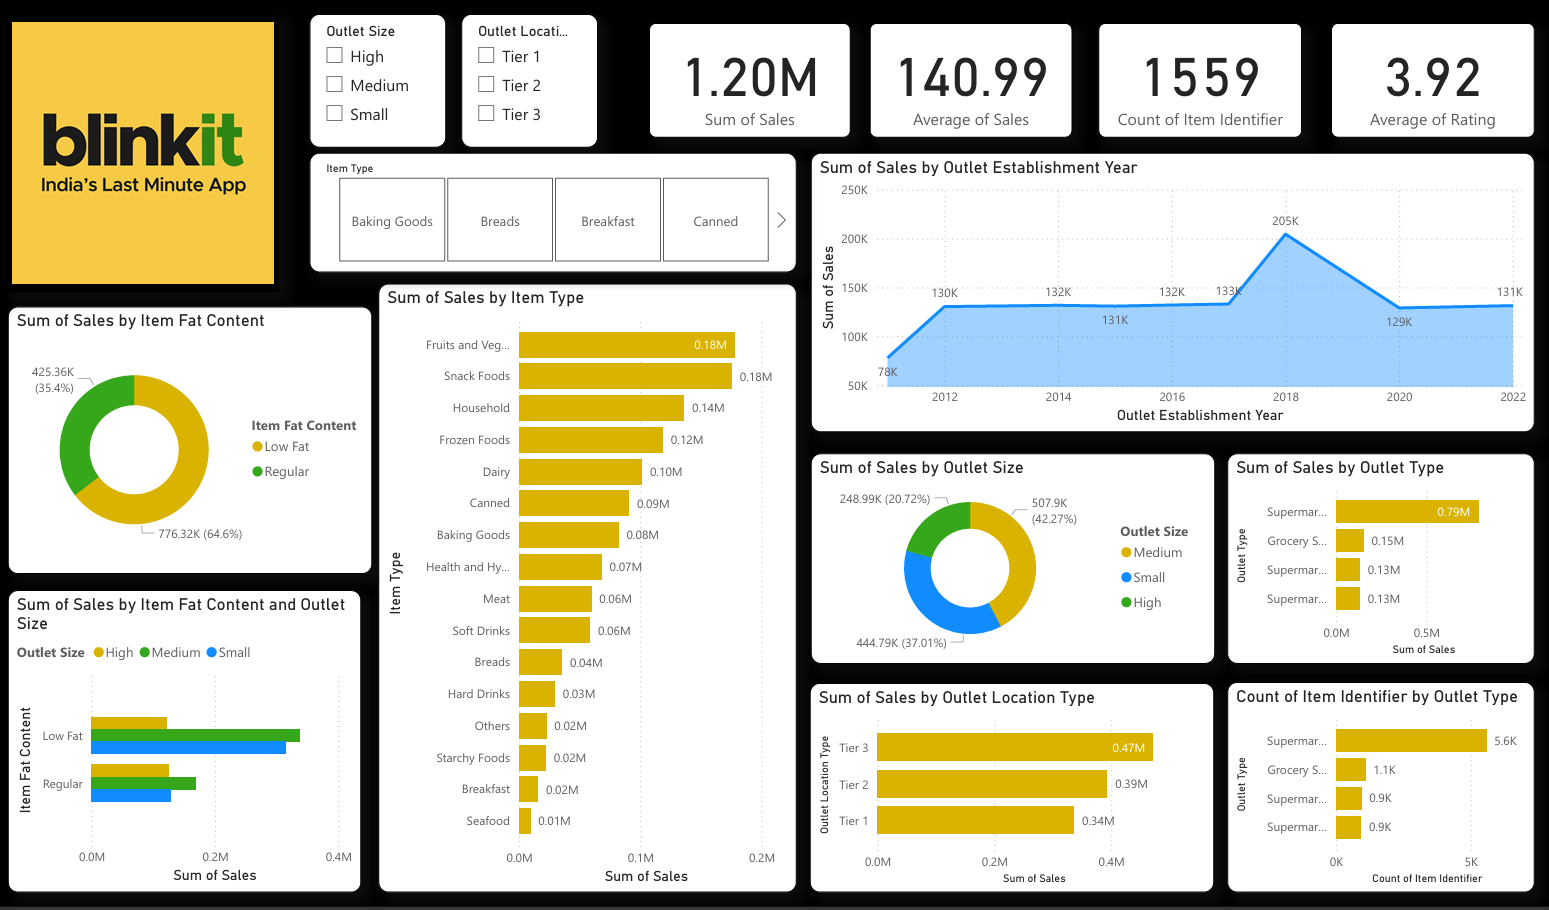

Layout of this report page (visuals, bound fields, positions):
{"tool":"powerbi","page":{"name":"Page 1","canvas":[1557,950],"ordinal":0},"visuals":[{"type":"card","fields":{"Values":["Sum(BlinkIT Grocery Data.Sales)"]},"box":[647.9,65.1,202.6,114.9],"z":0},{"type":"card","fields":{"Values":["Avg(BlinkIT Grocery Data.Sales)"]},"box":[869.5,65.1,202.6,114.9],"z":1},{"type":"card","fields":{"Values":["Count(BlinkIT Grocery Data.Item Identifier)"]},"box":[1098.1,65.1,203.7,114.9],"z":2},{"type":"card","fields":{"Values":["Avg(BlinkIT Grocery Data.Rating)"]},"box":[1331.4,65.1,203.7,114.9],"z":3},{"type":"donutChart","fields":{"Y":["Sum(BlinkIT Grocery Data.Sales)"],"Category":["BlinkIT Grocery Data.Item Fat Content"]},"box":[5.9,349.4,364.8,267.7],"z":4},{"type":"clusteredBarChart","fields":{"Category":["BlinkIT Grocery Data.Item Fat Content","BlinkIT Grocery Data.Outlet Location Type"],"Y":["Sum(BlinkIT Grocery Data.Sales)"],"Series":["BlinkIT Grocery Data.Outlet Size"]},"box":[5.9,632.5,354.2,303.2],"z":5},{"type":"clusteredBarChart","fields":{"Category":["BlinkIT Grocery Data.Item Type"],"Y":["Sum(BlinkIT Grocery Data.Sales)"]},"box":[376.7,325.7,419.3,610],"z":6},{"type":"clusteredBarChart","fields":{"Category":["BlinkIT Grocery Data.Outlet Location Type"],"Y":["Sum(BlinkIT Grocery Data.Sales)"]},"box":[809,726.1,405.1,209.7],"z":7},{"type":"donutChart","fields":{"Category":["BlinkIT Grocery Data.Outlet Size"],"Y":["Sum(BlinkIT Grocery Data.Sales)"]},"box":[810.2,496.3,405.1,210.8],"z":8},{"type":"areaChart","fields":{"Category":["BlinkIT Grocery Data.Outlet Establishment Year"],"Y":["Sum(BlinkIT Grocery Data.Sales)"]},"box":[810.2,195.4,724.9,279.6],"z":9},{"type":"clusteredBarChart","fields":{"Category":["BlinkIT Grocery Data.Outlet Type"],"Y":["Sum(BlinkIT Grocery Data.Sales)"]},"box":[1227.2,496.3,308,210.8],"z":10},{"type":"clusteredBarChart","fields":{"Category":["BlinkIT Grocery Data.Outlet Type"],"Y":["CountNonNull(BlinkIT Grocery Data.Item Identifier)"]},"box":[1227.2,724.9,308,210.8],"z":11},{"type":"slicer","fields":{"Values":["BlinkIT Grocery Data.Outlet Size"]},"box":[308,55.7,137.4,133.9],"z":12},{"type":"slicer","fields":{"Values":["BlinkIT Grocery Data.Outlet Location Type"]},"box":[459.6,55.7,137.4,133.9],"z":13},{"type":"slicer","fields":{"Values":["BlinkIT Grocery Data.Item Type"]},"box":[308,195.4,488,119.6],"z":14},{"type":"image","box":[5.9,55.7,272.4,279.6],"z":15}]}

Visuals, with their boxes in screenshot pixels (x1, y1, x2, y2):
card - Sum(BlinkIT Grocery Data.Sales): left=640, top=28, right=838, bottom=140
card - Avg(BlinkIT Grocery Data.Sales): left=857, top=28, right=1056, bottom=140
card - Count(BlinkIT Grocery Data.Item Identifier): left=1081, top=28, right=1281, bottom=140
card - Avg(BlinkIT Grocery Data.Rating): left=1310, top=28, right=1510, bottom=140
donutChart - Sum(BlinkIT Grocery Data.Sales) x BlinkIT Grocery Data.Item Fat Content: left=10, top=307, right=368, bottom=569
clusteredBarChart - BlinkIT Grocery Data.Item Fat Content x BlinkIT Grocery Data.Outlet Location Type: left=10, top=584, right=357, bottom=882
clusteredBarChart - BlinkIT Grocery Data.Item Type x Sum(BlinkIT Grocery Data.Sales): left=374, top=283, right=785, bottom=882
clusteredBarChart - BlinkIT Grocery Data.Outlet Location Type x Sum(BlinkIT Grocery Data.Sales): left=798, top=676, right=1195, bottom=882
donutChart - BlinkIT Grocery Data.Outlet Size x Sum(BlinkIT Grocery Data.Sales): left=799, top=451, right=1196, bottom=657
areaChart - BlinkIT Grocery Data.Outlet Establishment Year x Sum(BlinkIT Grocery Data.Sales): left=799, top=155, right=1510, bottom=430
clusteredBarChart - BlinkIT Grocery Data.Outlet Type x Sum(BlinkIT Grocery Data.Sales): left=1208, top=451, right=1510, bottom=657
clusteredBarChart - BlinkIT Grocery Data.Outlet Type x CountNonNull(BlinkIT Grocery Data.Item Identifier): left=1208, top=675, right=1510, bottom=882
slicer - BlinkIT Grocery Data.Outlet Size: left=306, top=18, right=441, bottom=150
slicer - BlinkIT Grocery Data.Outlet Location Type: left=455, top=18, right=590, bottom=150
slicer - BlinkIT Grocery Data.Item Type: left=306, top=155, right=785, bottom=273
image: left=10, top=18, right=277, bottom=293
